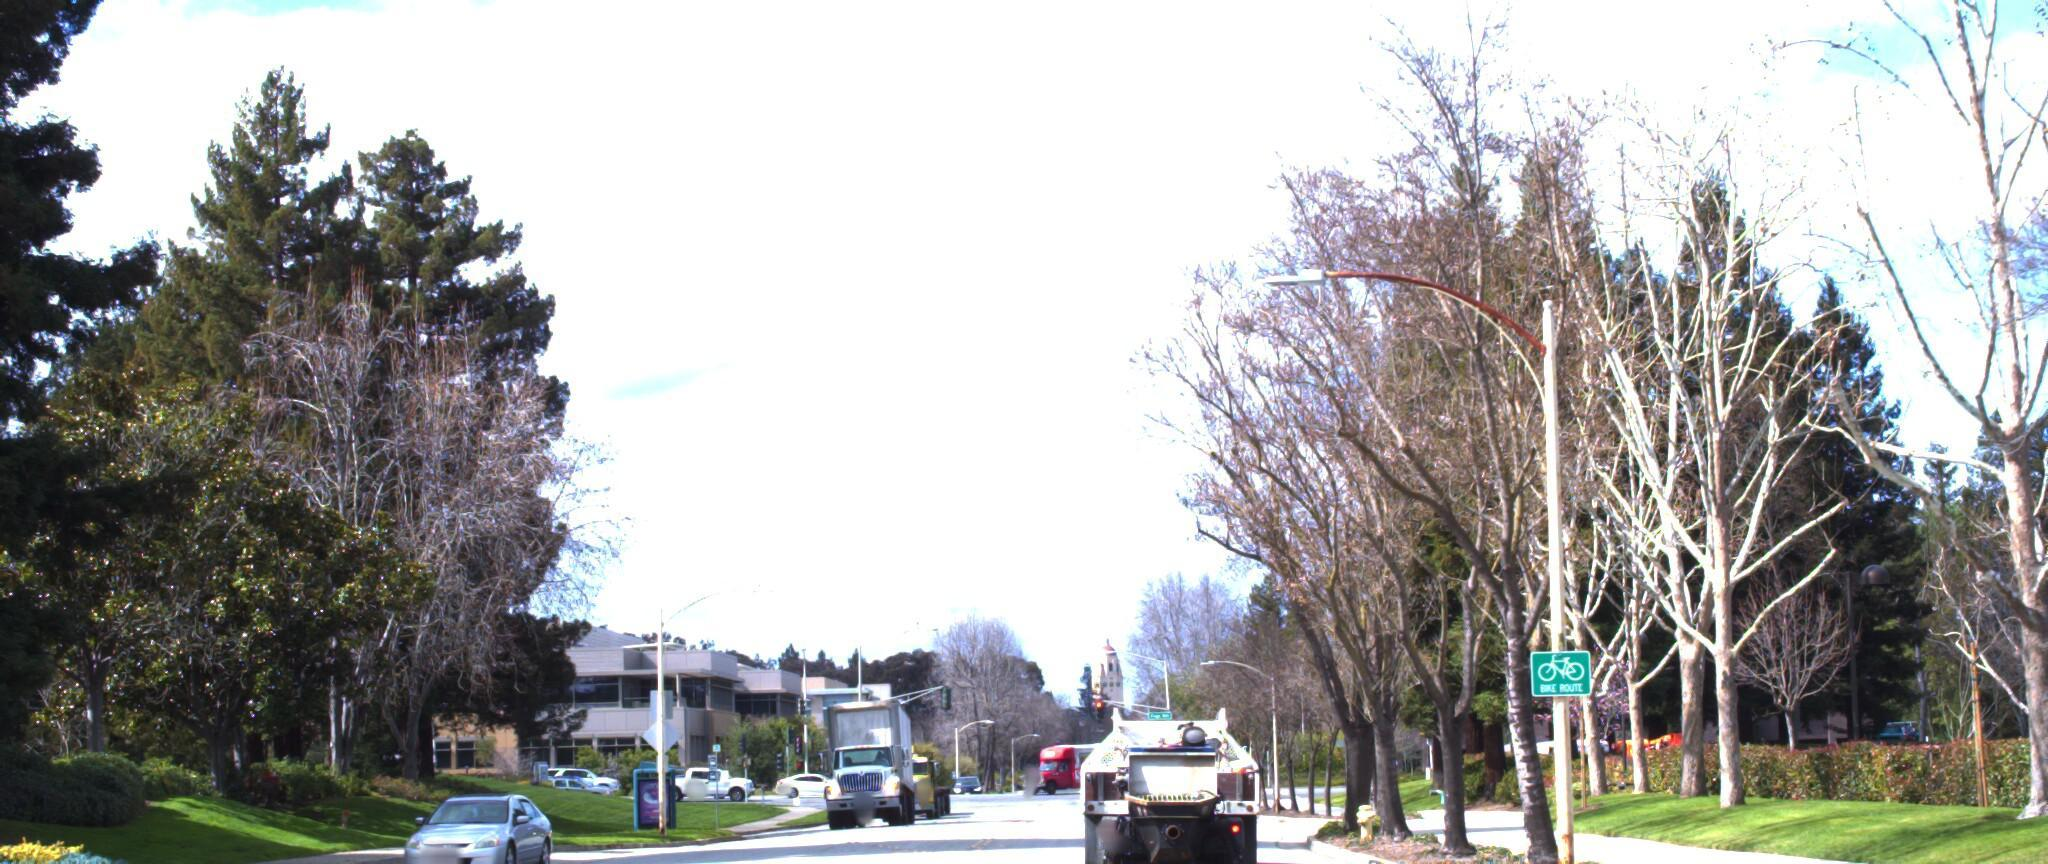car: (398, 788, 558, 864)
truck: (1031, 693, 1259, 864)
